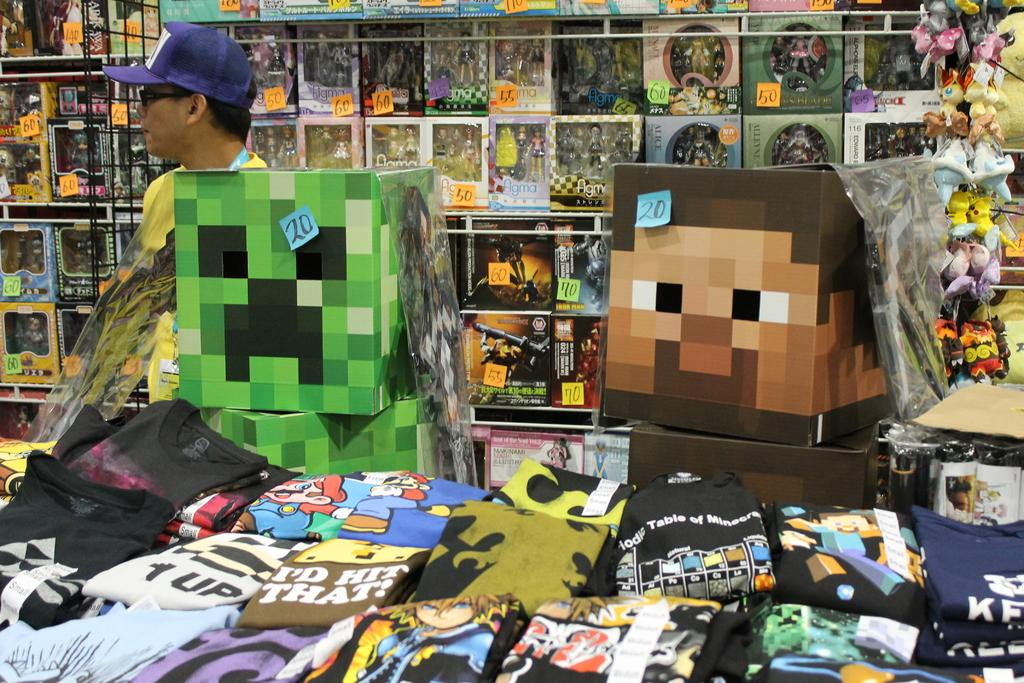Hat: (102, 19, 260, 107)
